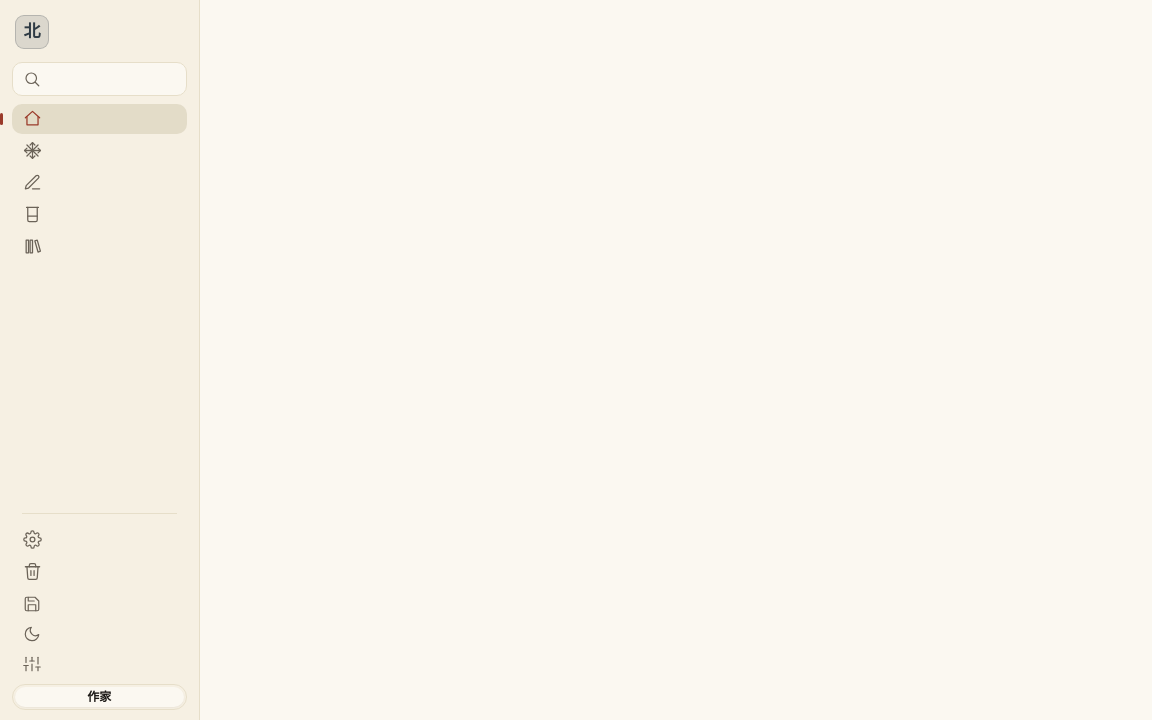
Test: 侧栏 · 浮层把焦点还给入口时不展开（在浮层里按过键也一样） › 同步与恢复：鼠标打开，在对话框里按两下 Tab 再 Esc——焦点回到入口，侧栏不展开
Press the mouse on the button with class "wrr-trigger" at [99, 604], box [12, 590, 186, 618]
Press the mouse on the button with class "wrr-trigger" at [99, 604], box [12, 590, 186, 618]
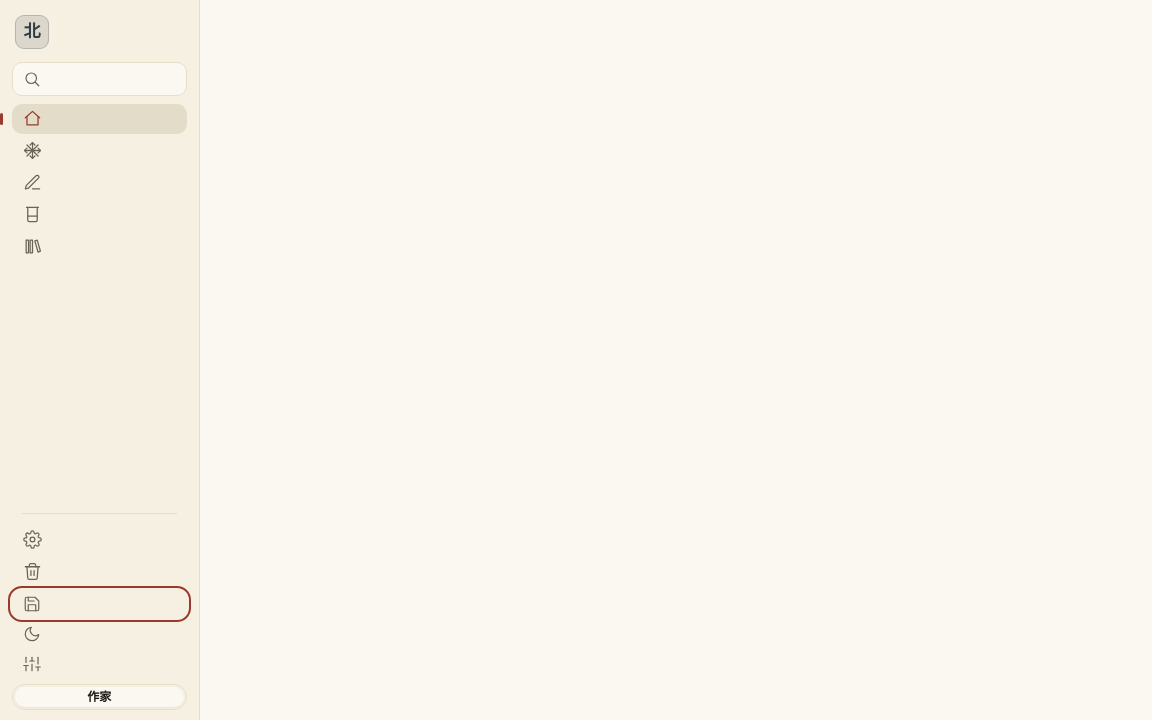
Click the button with class "wrr-trigger". click: [99, 604]
box: [12, 590, 186, 618]
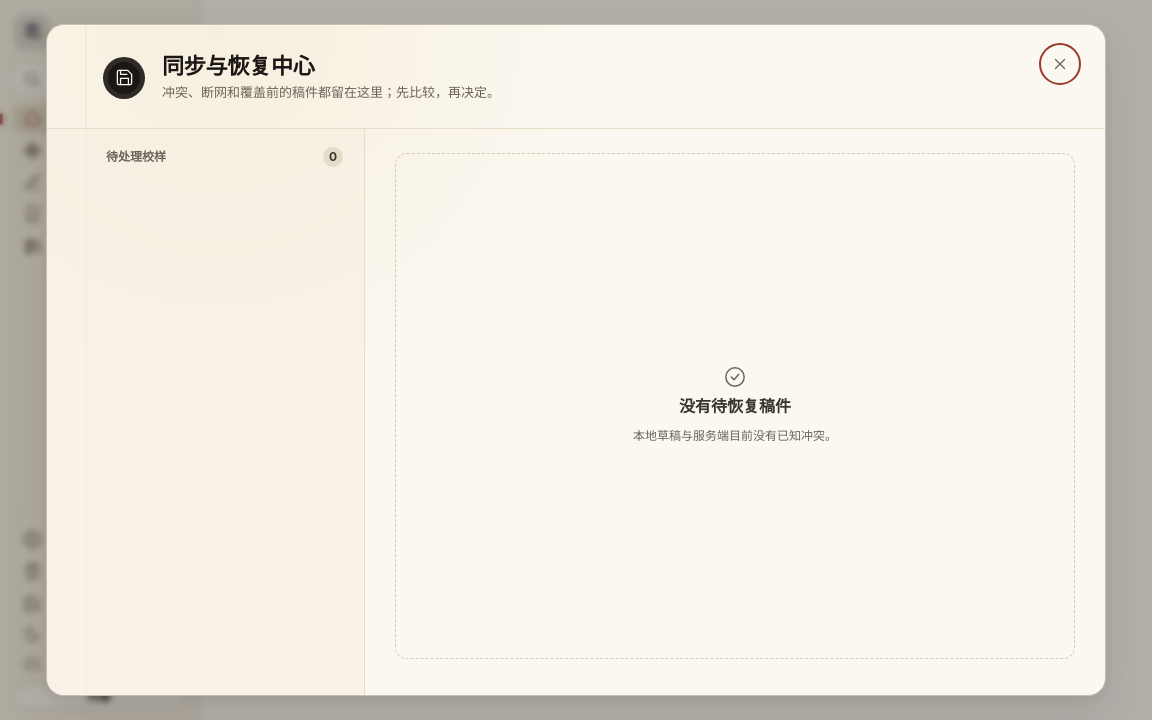
Now the dialog with class "wrr-panel" is shown
Press Tab in the button named "关闭同步与恢复中心", box [1043, 47, 1077, 81]
Press Tab in the button named "关闭同步与恢复中心", box [1043, 47, 1077, 81]
Press Escape in the button named "关闭同步与恢复中心", box [1043, 47, 1077, 81]
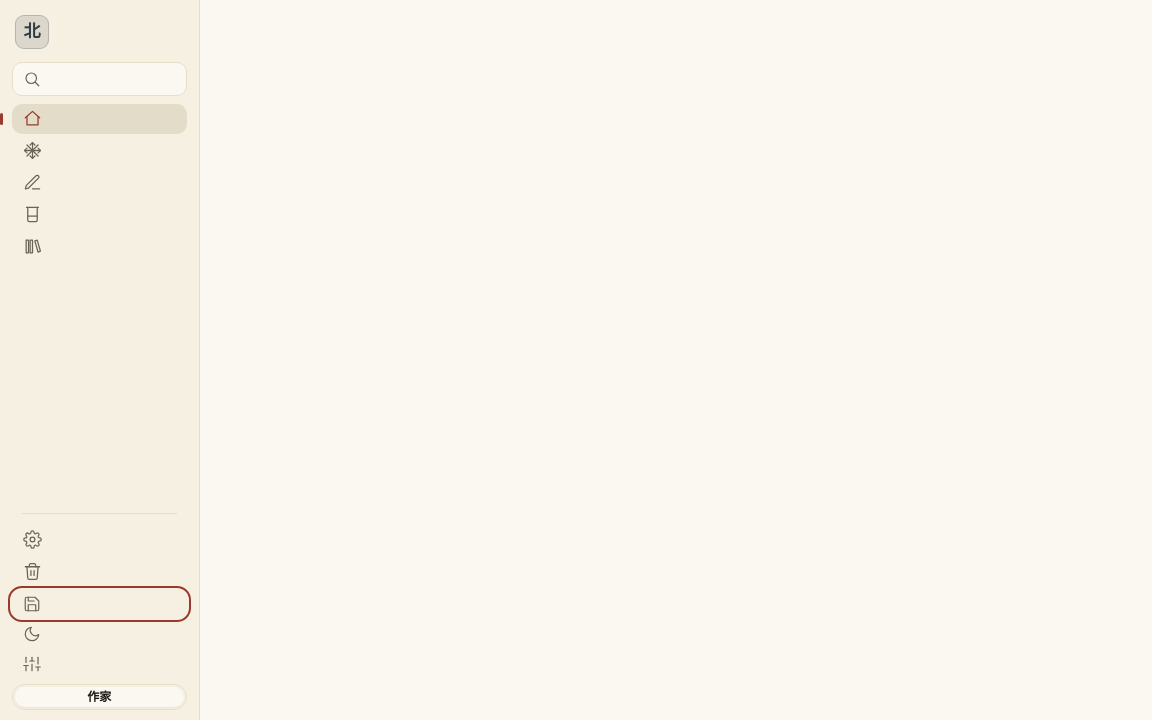
Now the dialog with class "wrr-panel" is gone
